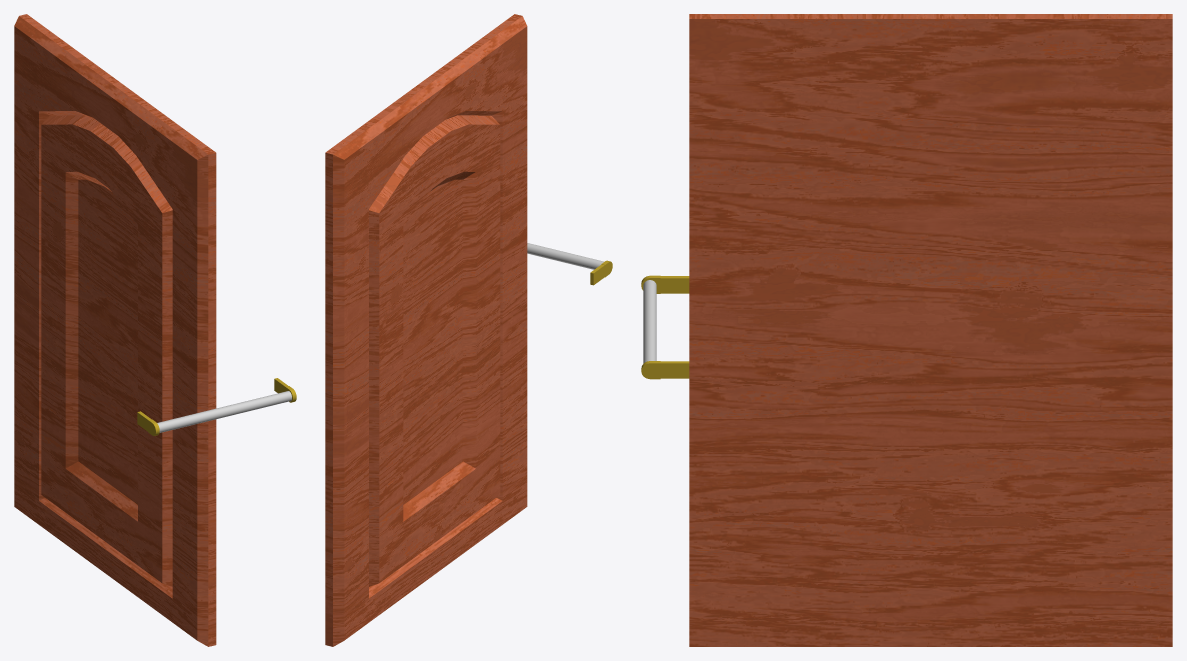
The model's file is Cabinet_33711c56.obj.
3 renders of one model, left to right at view 1: azimuth 30°, elevation 25°; view 2: azimuth 150°, elevation 25°; view 3: azimuth 270°, elevation 25°, orthographic. The views are drawn at different scales.
Visible parts, largest first — view 1: Mesh_01_b100c1cf, handle_2_178mm_01_05d7b926; view 2: Mesh_01_b100c1cf, handle_2_178mm_01_05d7b926; view 3: Mesh_01_b100c1cf, handle_2_178mm_01_05d7b926.
Boxes of the visible parts, x1,y1,x2,y2 form: Mesh_01_b100c1cf: (14,14,216,646); handle_2_178mm_01_05d7b926: (137,378,296,435); Mesh_01_b100c1cf: (325,14,527,646); handle_2_178mm_01_05d7b926: (527,243,612,285); Mesh_01_b100c1cf: (689,14,1172,646); handle_2_178mm_01_05d7b926: (641,275,689,379).
Size of the model in its own units: 0.178 by 0.595 by 0.4563.
